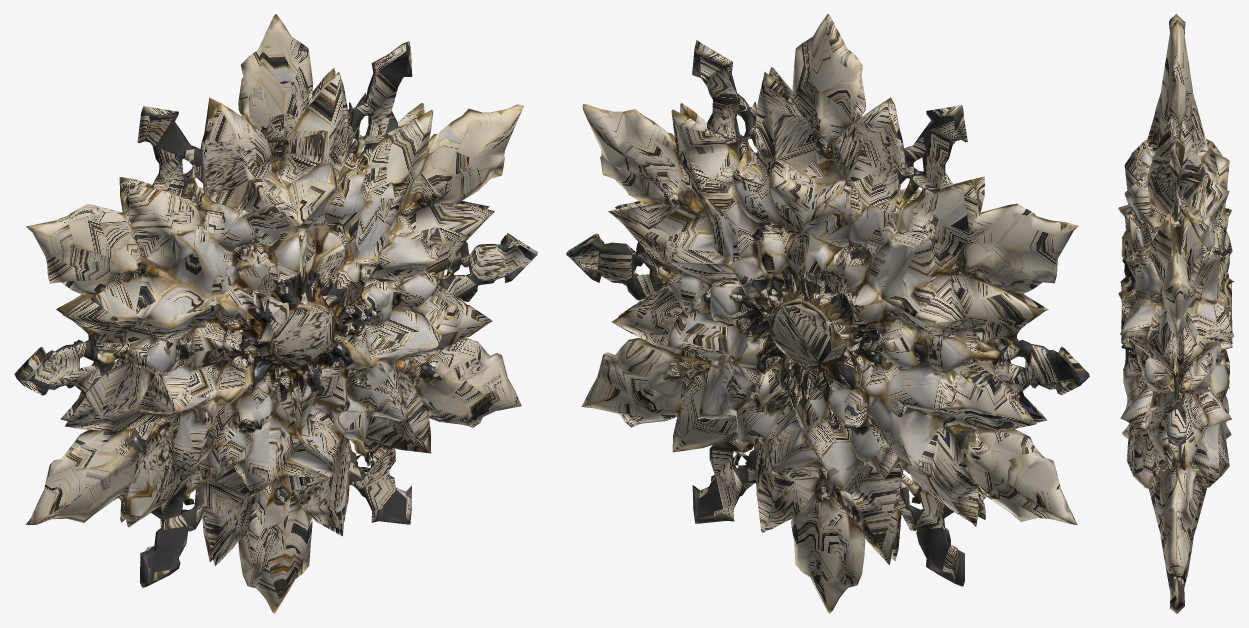
File: Yuki.glb
The picture shows the model from 3 angles, left to right: view 1: azimuth 30°, elevation 25°; view 2: azimuth 150°, elevation 25°; view 3: azimuth 270°, elevation 25°; orthographic projection. The views are drawn at different scales.
Parts seen in each view (by area): view 1: Yuki; view 2: Yuki; view 3: Yuki.
Part boxes in pixels (x1,y1,x2,y2): Yuki: (14,14,537,613); Yuki: (566,14,1089,613); Yuki: (1118,14,1234,613).
Size of the model in its own units: 1.81 by 1.99 by 0.358.
1 material, 1 textured.
